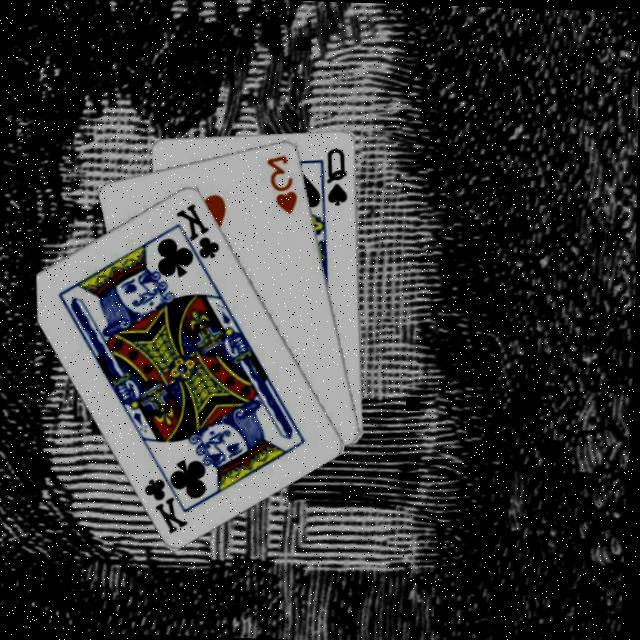3H: (260, 149, 302, 214)
KC: (140, 459, 193, 534), (170, 197, 224, 270)
QS: (322, 142, 352, 206)
